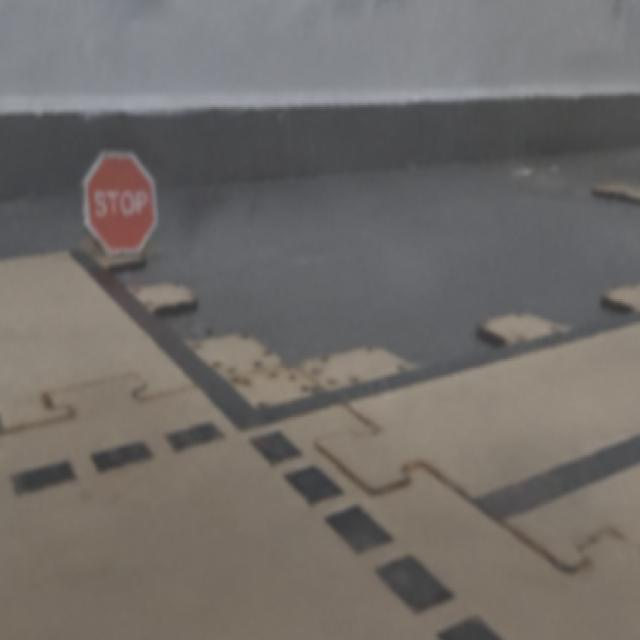STOP: (84, 152, 156, 252)
